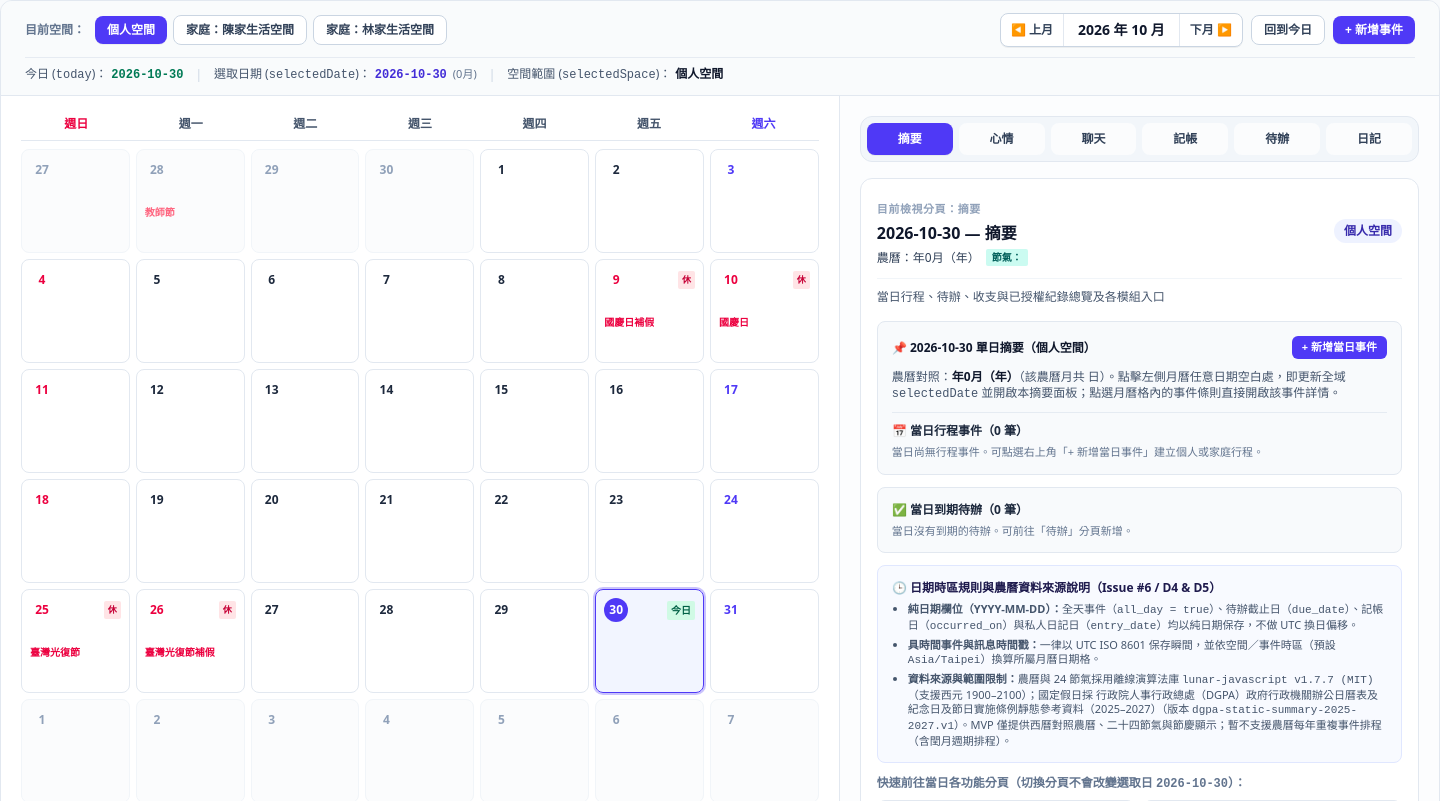
Issue #9 ChatPanel & CalendarWorkspace Mood/Chat Integration › Personal Mood Chat ("心情" Tab) › supports deleting personal mood messages
What coordinates should you click on to do the following:
click the tab with test id "right-tab-mood"
I would click on:
 (1002, 139)
Its box is [959,123,1045,155].
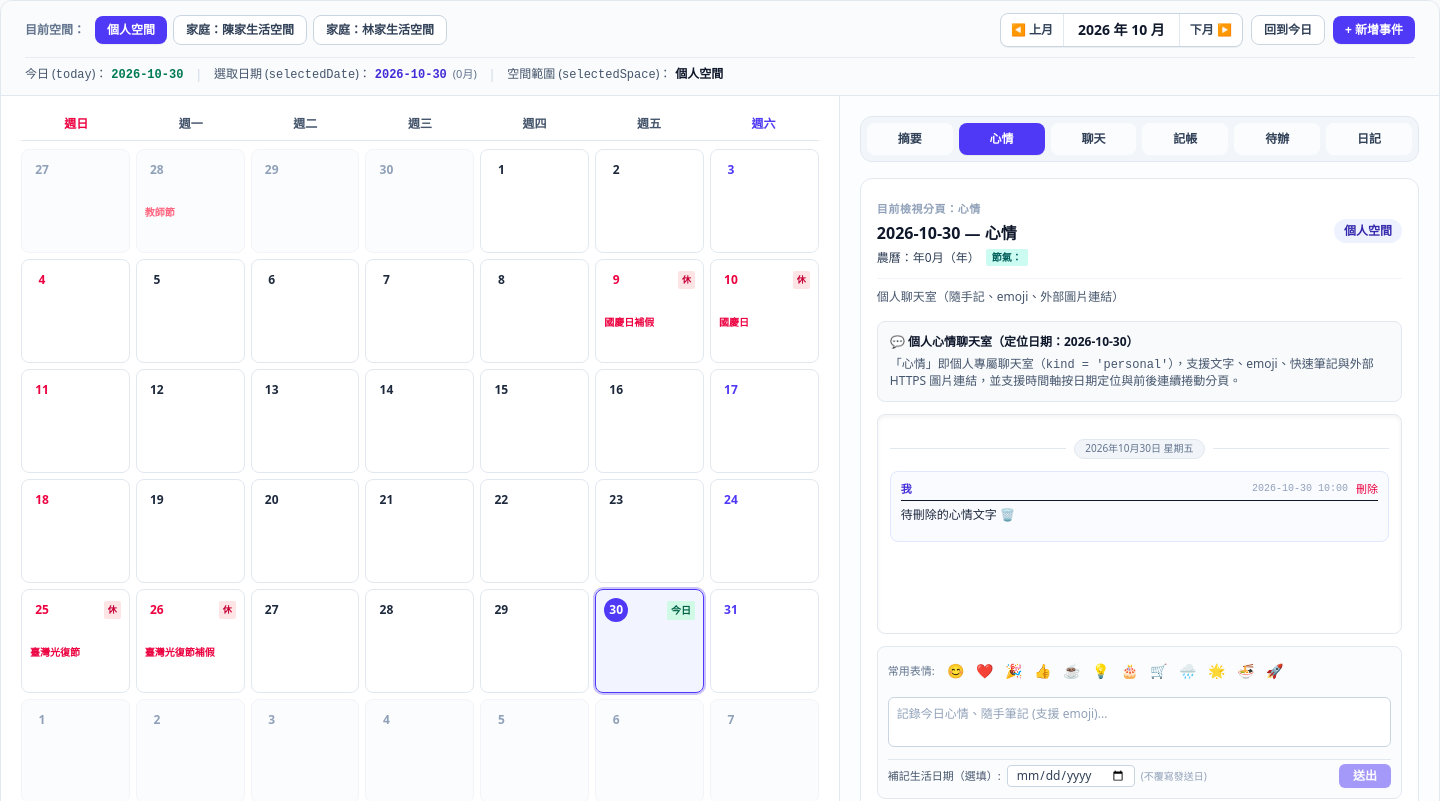
Now the element with test id "chat-message-msg_del_test" is shown, box [890,471,1389,542]
What coordinates should you click on to do the following:
click the button with test id "delete-message-msg_del_test"
I would click on:
 (1367, 489)
Its box is [1356,482,1378,496].
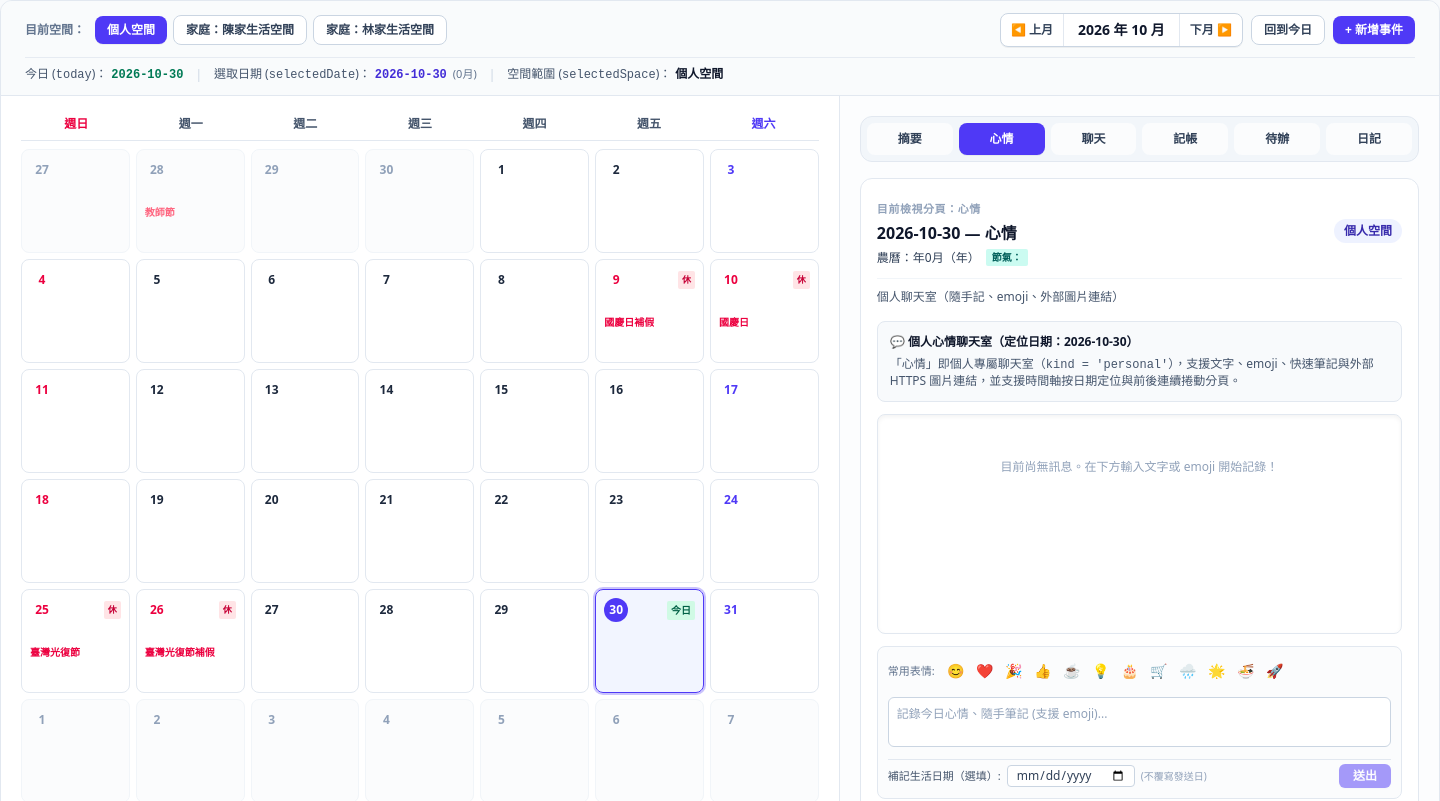
Now the element with test id "chat-message-msg_del_test" is gone
